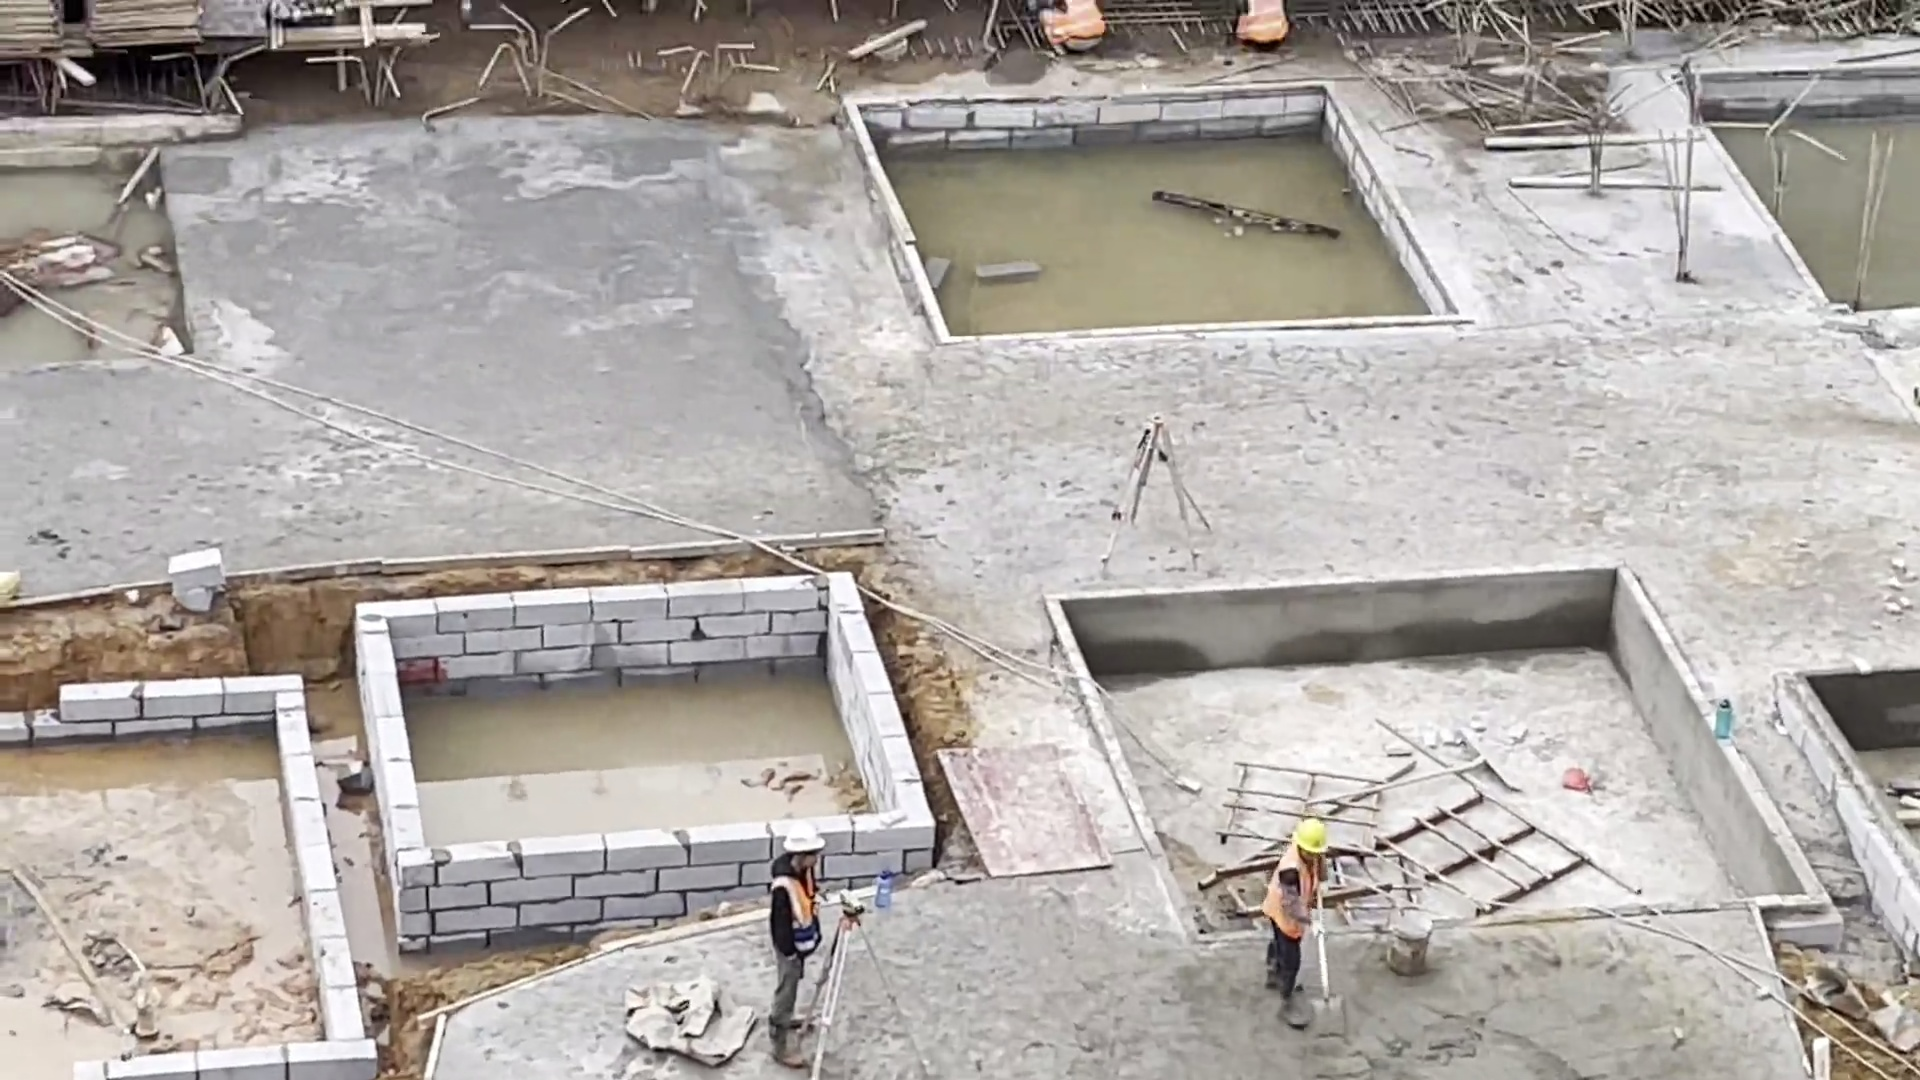helmet: (1288, 810, 1337, 854), (786, 826, 836, 856)
person: (763, 824, 832, 1080), (1261, 808, 1336, 1037)
vest: (769, 865, 829, 965), (1264, 846, 1317, 950), (1049, 4, 1113, 54), (1231, 3, 1288, 46)
